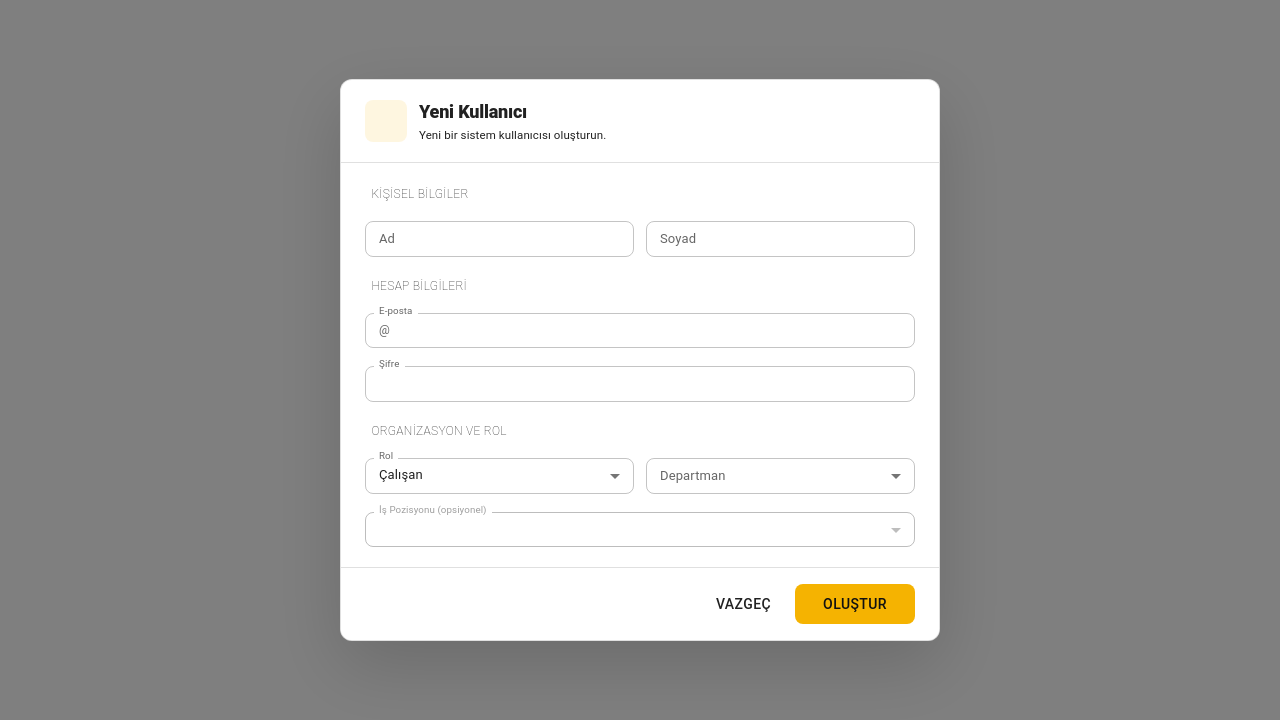
Test: UserFormDialog › büyük harf içermeyen şifre için ilgili kural hatasını göstermeli
Type "Mehmet" into the field labelled "Ad" at {"x": 500, "y": 239}, box [365,221,634,257]
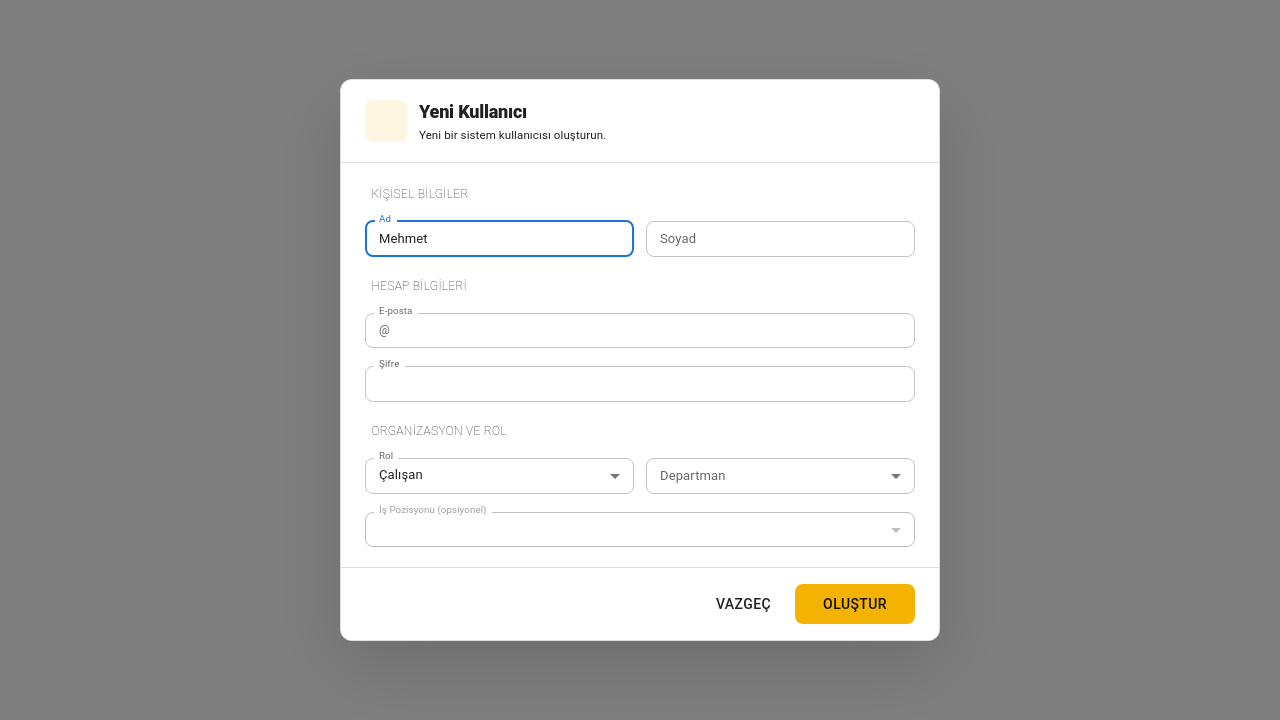
Type "Demir" into the field labelled "Soyad" at {"x": 780, "y": 239}, box [646,221,915,257]
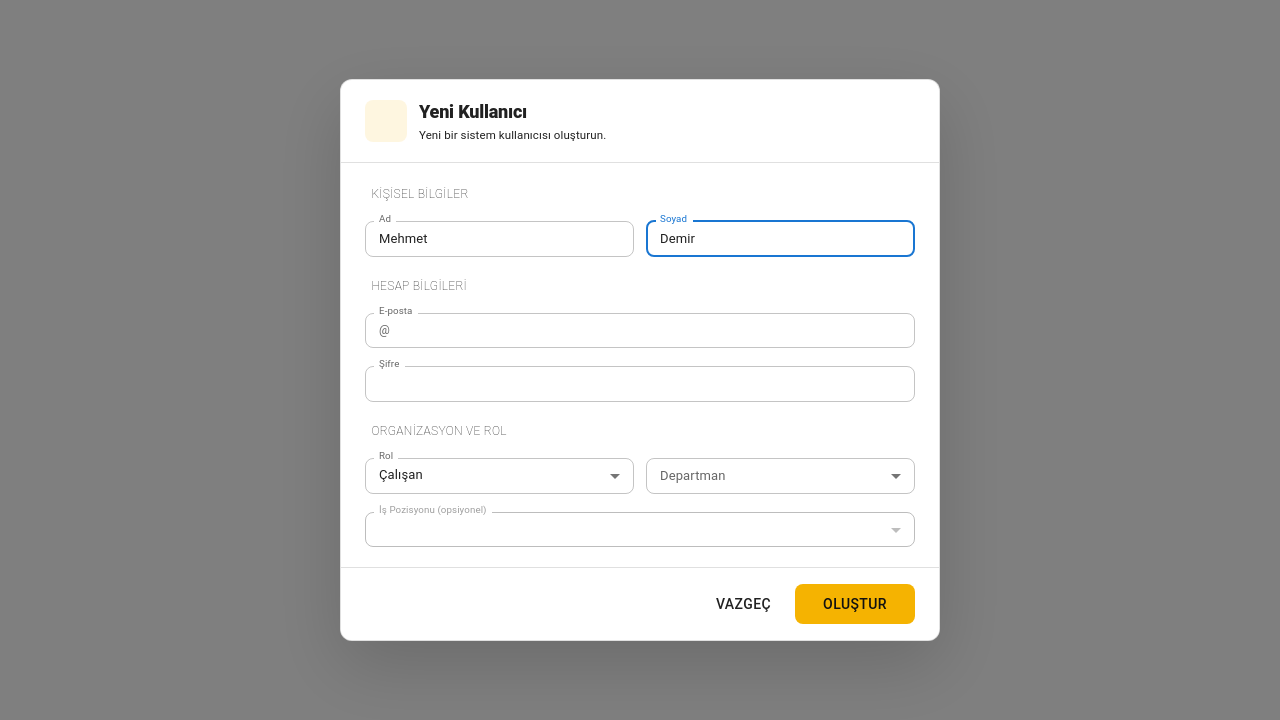
Type "mehmet@example.com" into the field labelled "E-posta" at {"x": 656, "y": 330}, box [398,313,915,348]
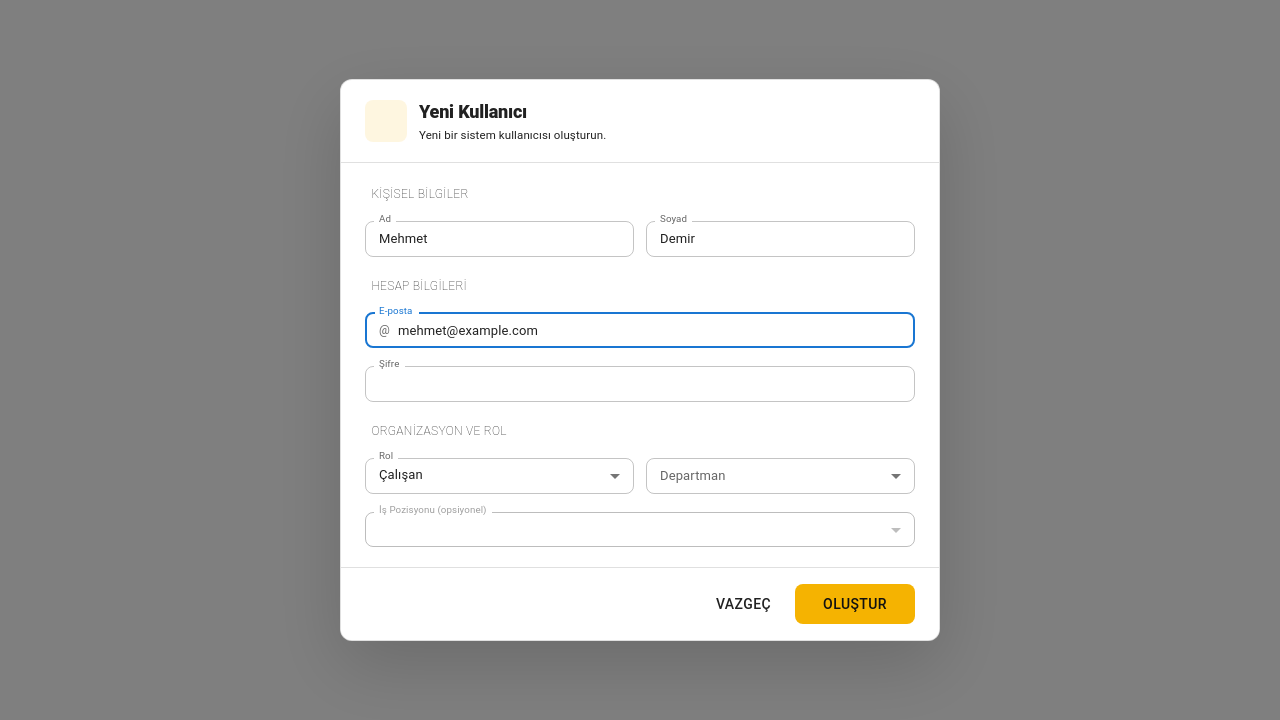
Type "sifre123!" into the password field labelled "Şifre" at {"x": 636, "y": 384}, box [387,366,886,402]
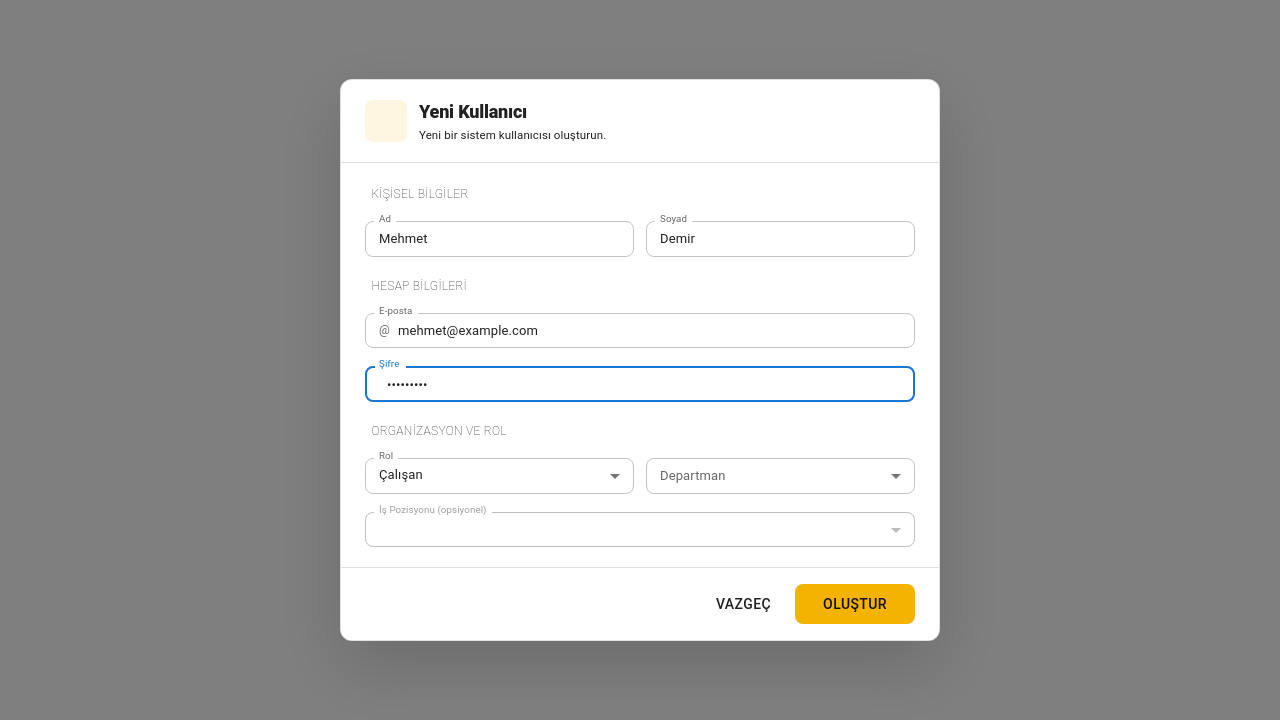
Click the button "Oluştur" at {"x": 855, "y": 604}, box [795,584,915,624]
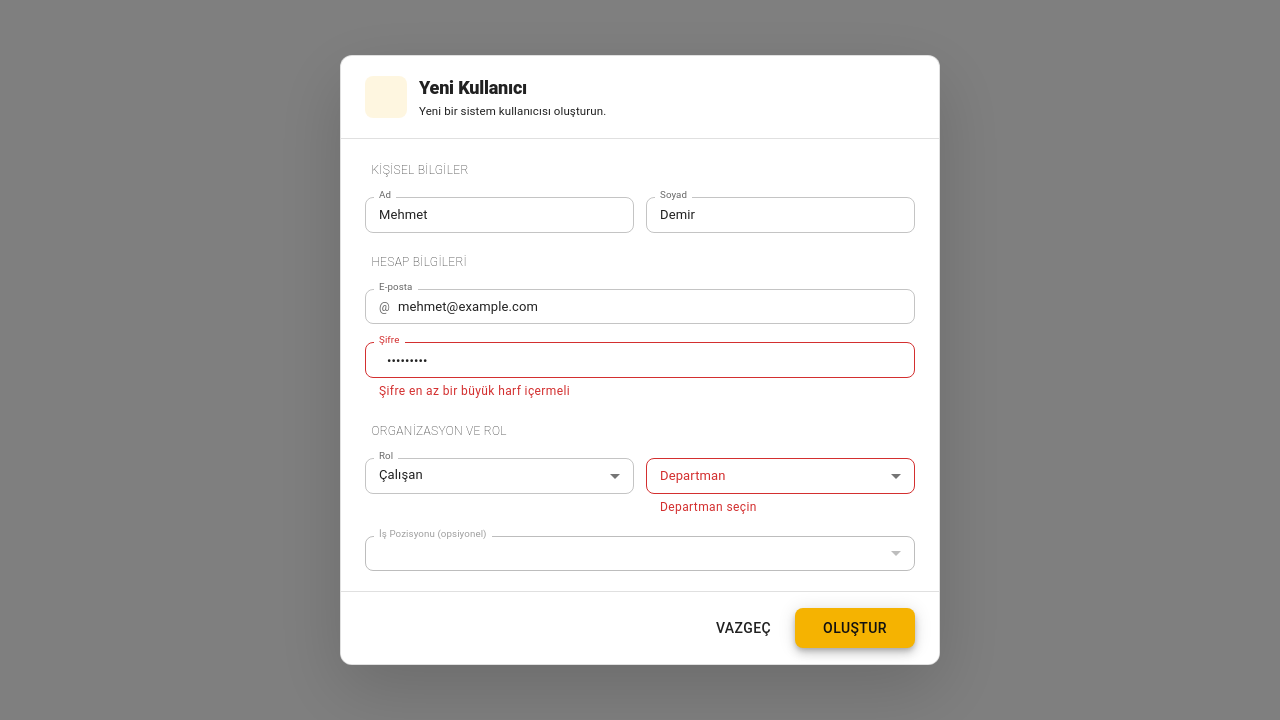
Check: the text "Şifre en az bir büyük harf içermeli" is shown, box [379,384,570,398]
